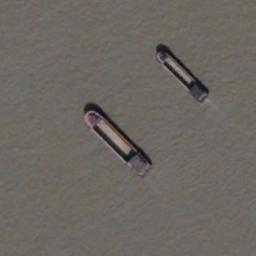boat: (83, 107, 153, 178), (155, 46, 209, 103)
